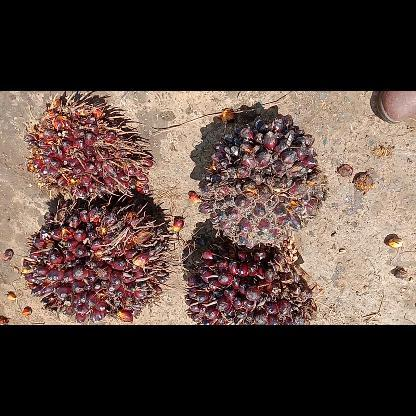Kurang masak: (20, 197, 182, 322), (198, 115, 326, 249), (24, 91, 152, 204), (184, 236, 312, 324)
